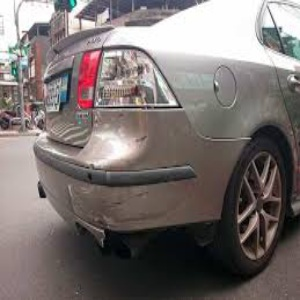bumper_scratch: (57, 182, 176, 238)
